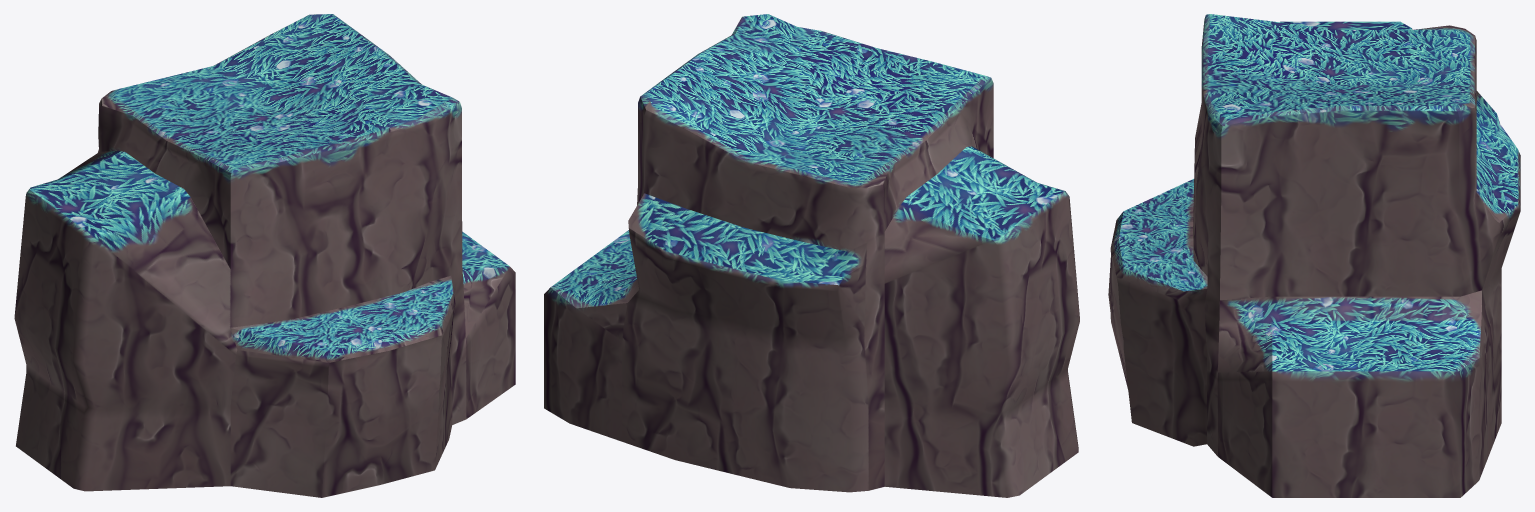
File: rocklandscape2.fbx
3 views of the same model, side by side, from view 1: azimuth 30°, elevation 25°; view 2: azimuth 150°, elevation 25°; view 3: azimuth 270°, elevation 25° (orthographic). The views are drawn at different scales.
Parts seen in each view (by area): view 1: polySurface3; view 2: polySurface3; view 3: polySurface3.
Part boxes in pixels (box(x1,y1,x2,y2)): polySurface3: box(14, 14, 515, 497); polySurface3: box(544, 14, 1079, 497); polySurface3: box(1108, 14, 1520, 497).
Size of the model in its own units: 7.43 by 5.37 by 5.82.
